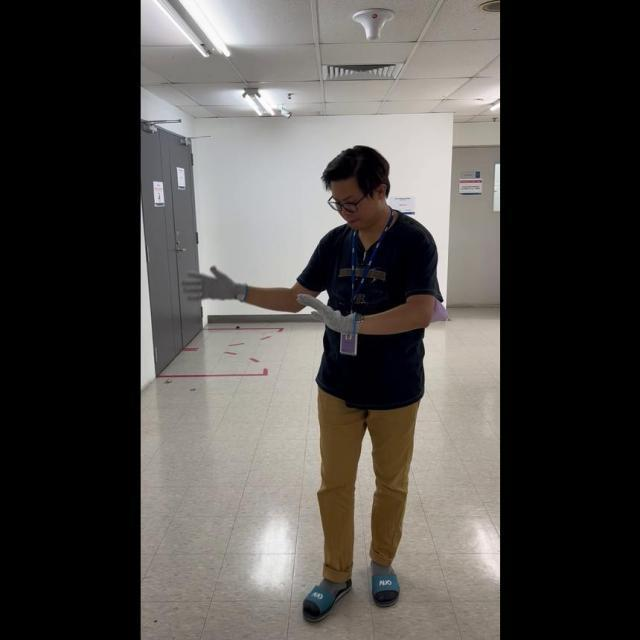gloved_hand: (295, 286, 359, 334), (199, 260, 249, 303)
